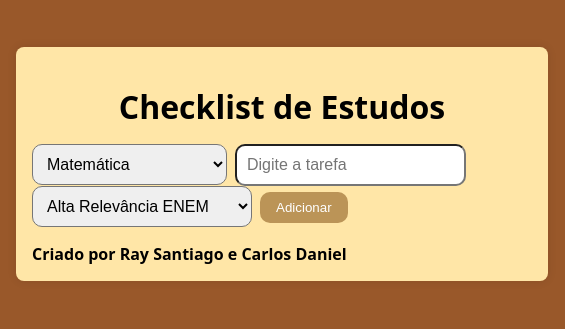
adicionar uma tarefa
Select "Química" in the 1st dropdown showing "Matemática". click: point(130, 164)
box: [32,144,227,185]
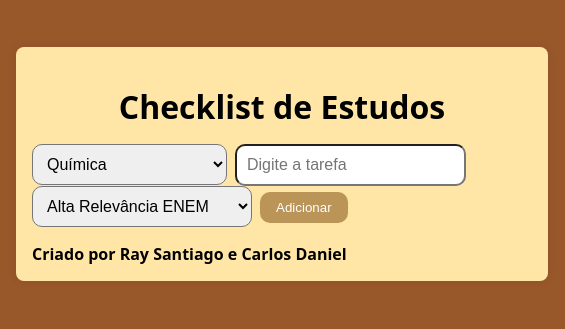
Type "Organica" into the field with placeholder "Digite a tarefa". click: point(350, 165)
box: [235,144,466,186]
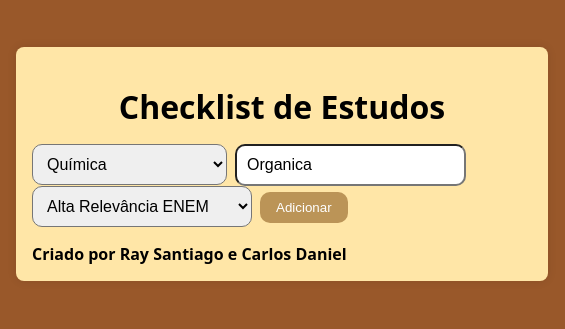
Select "Média Relevância ENEM" in the 2nd dropdown showing "Alta Relevância ENEM". click: point(142, 206)
box: [32,186,252,227]
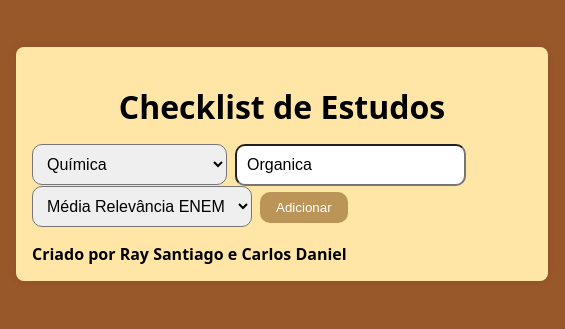
Click the button "Adicionar". click: point(304, 207)
box: [260,192,348,223]
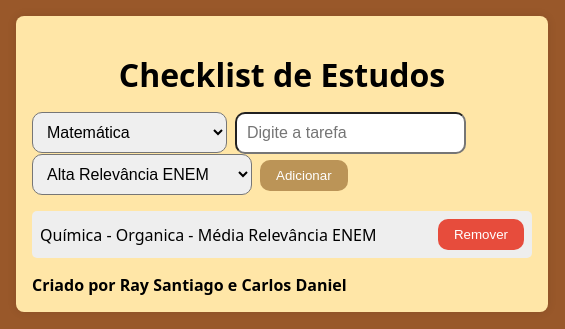
Check: the list item "Química - Organica - Média Relevância ENEM" is shown, box [32,211,532,258]
